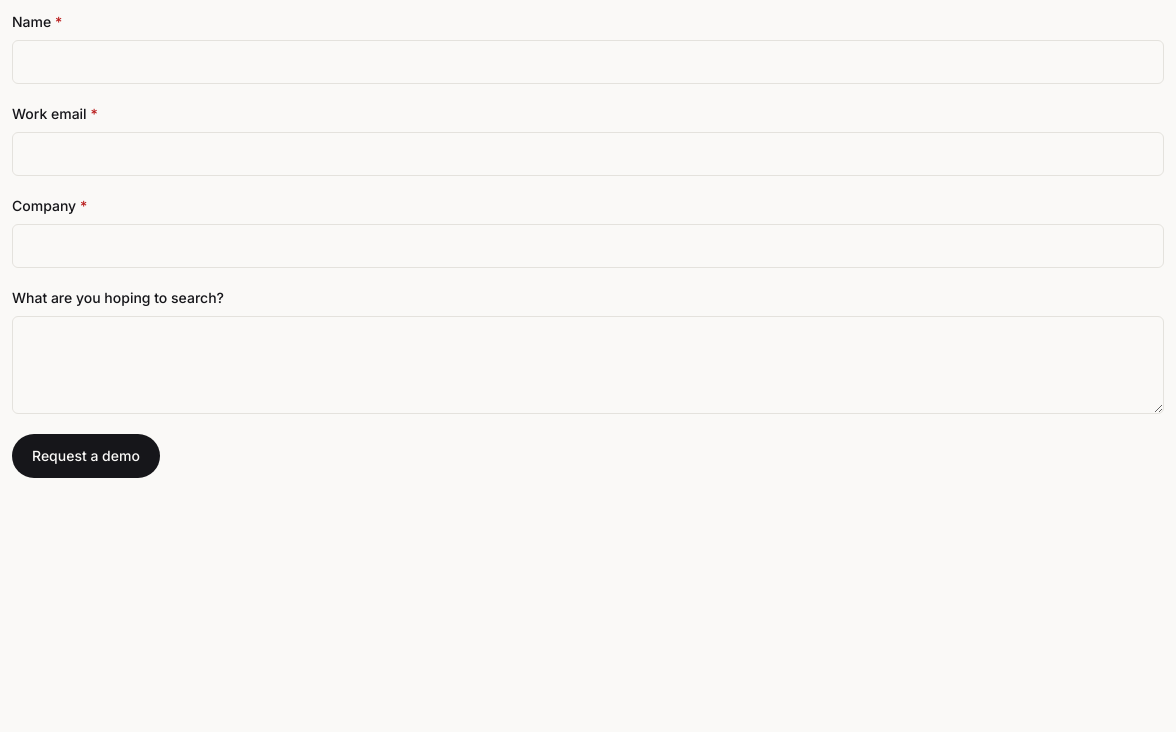
it: shows an inline error below an invalid email on blur
In the field labelled "Work email *": [588, 154] box [12,132,1164,176], type "nope"
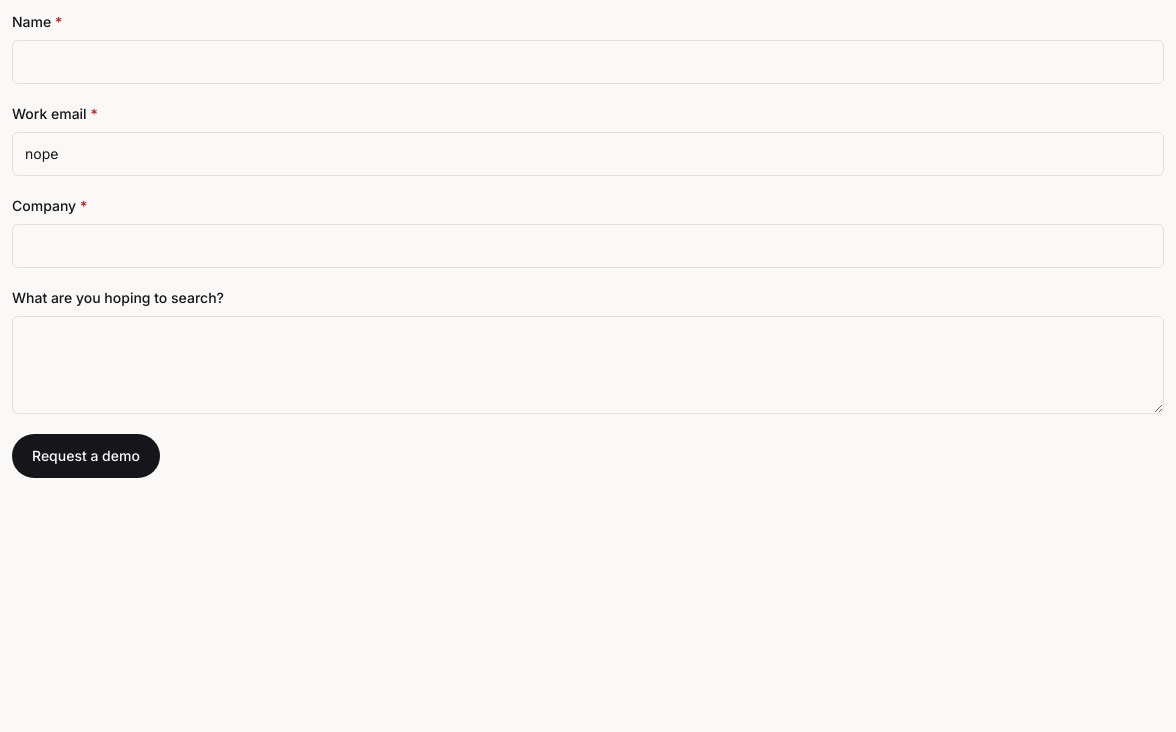
Leave the field labelled "Work email *", box [12,132,1164,176]
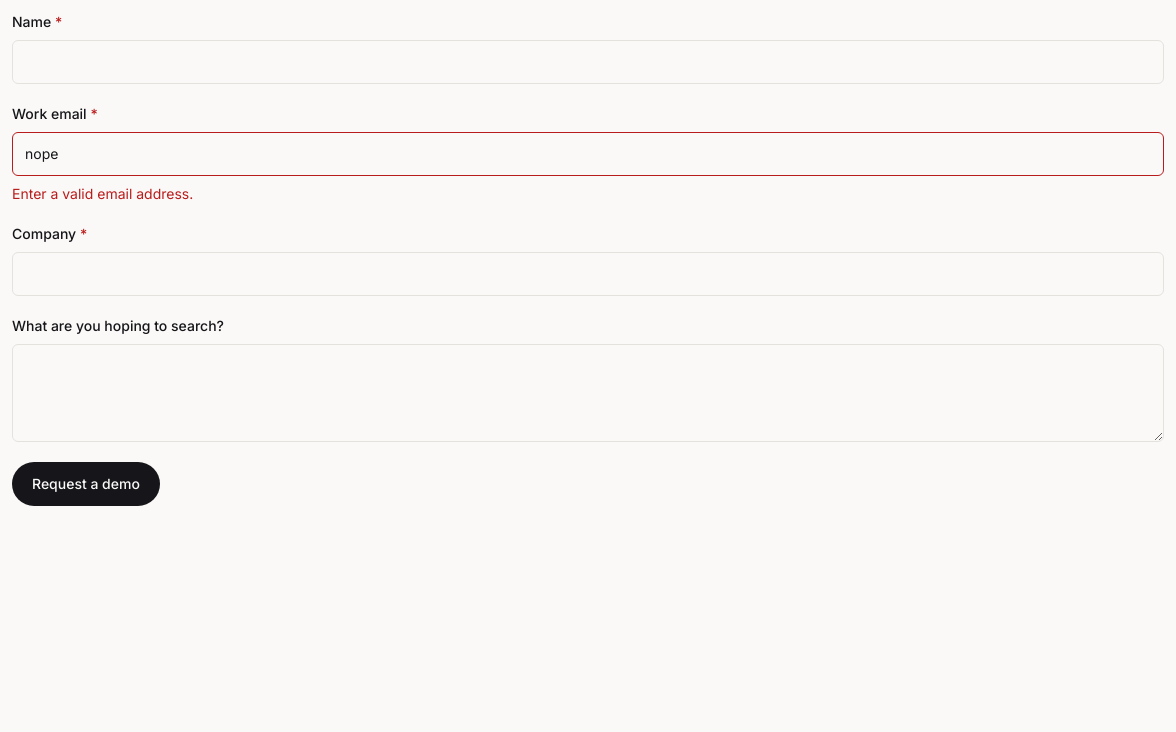
Now the message shows "valid email", box [12,185,193,202]
